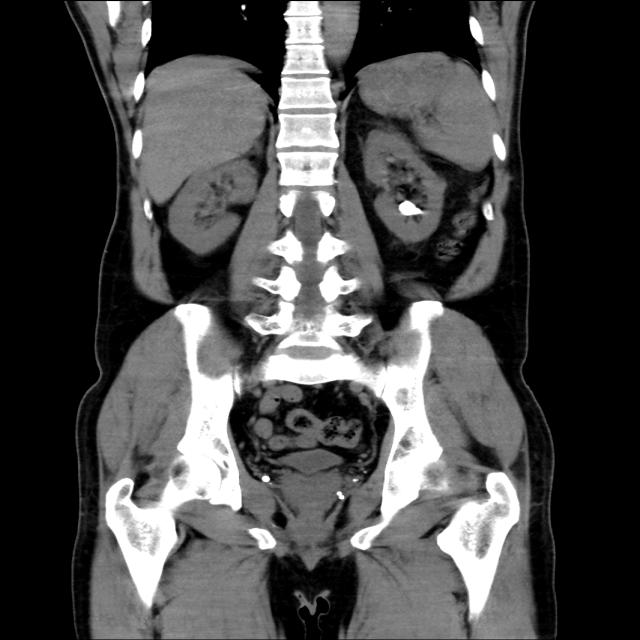kidneystone: (399, 200, 421, 216)
